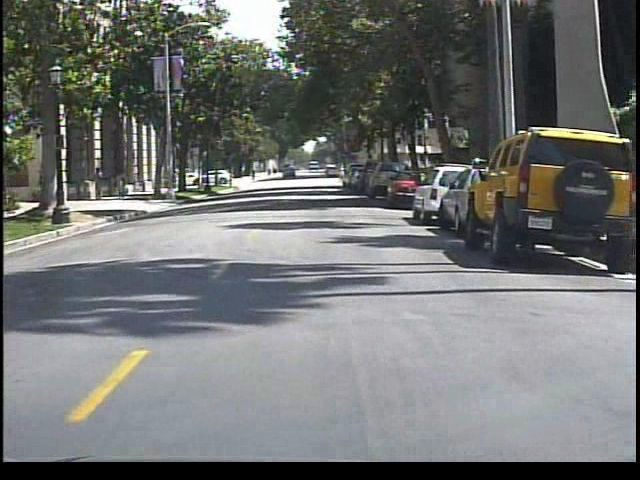person: (92, 167, 113, 205), (113, 168, 135, 203), (337, 164, 351, 188)
